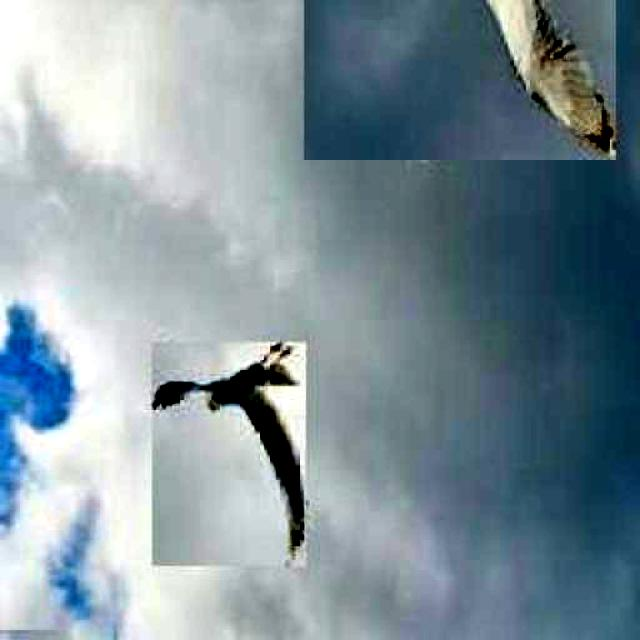airplane: (304, 0, 616, 160), (152, 342, 306, 566)
